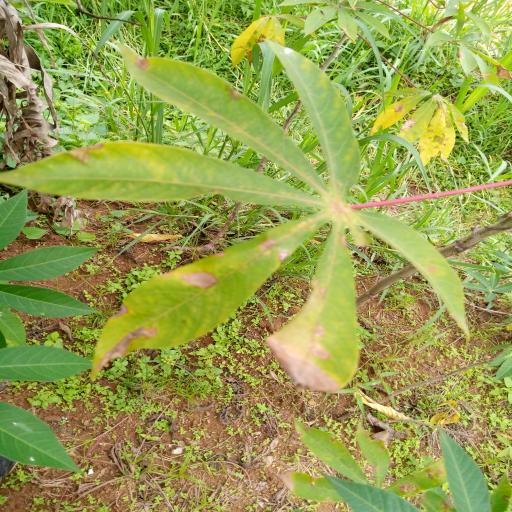Cassava_Brown_Leaf_Spot: (8, 37, 477, 394)
